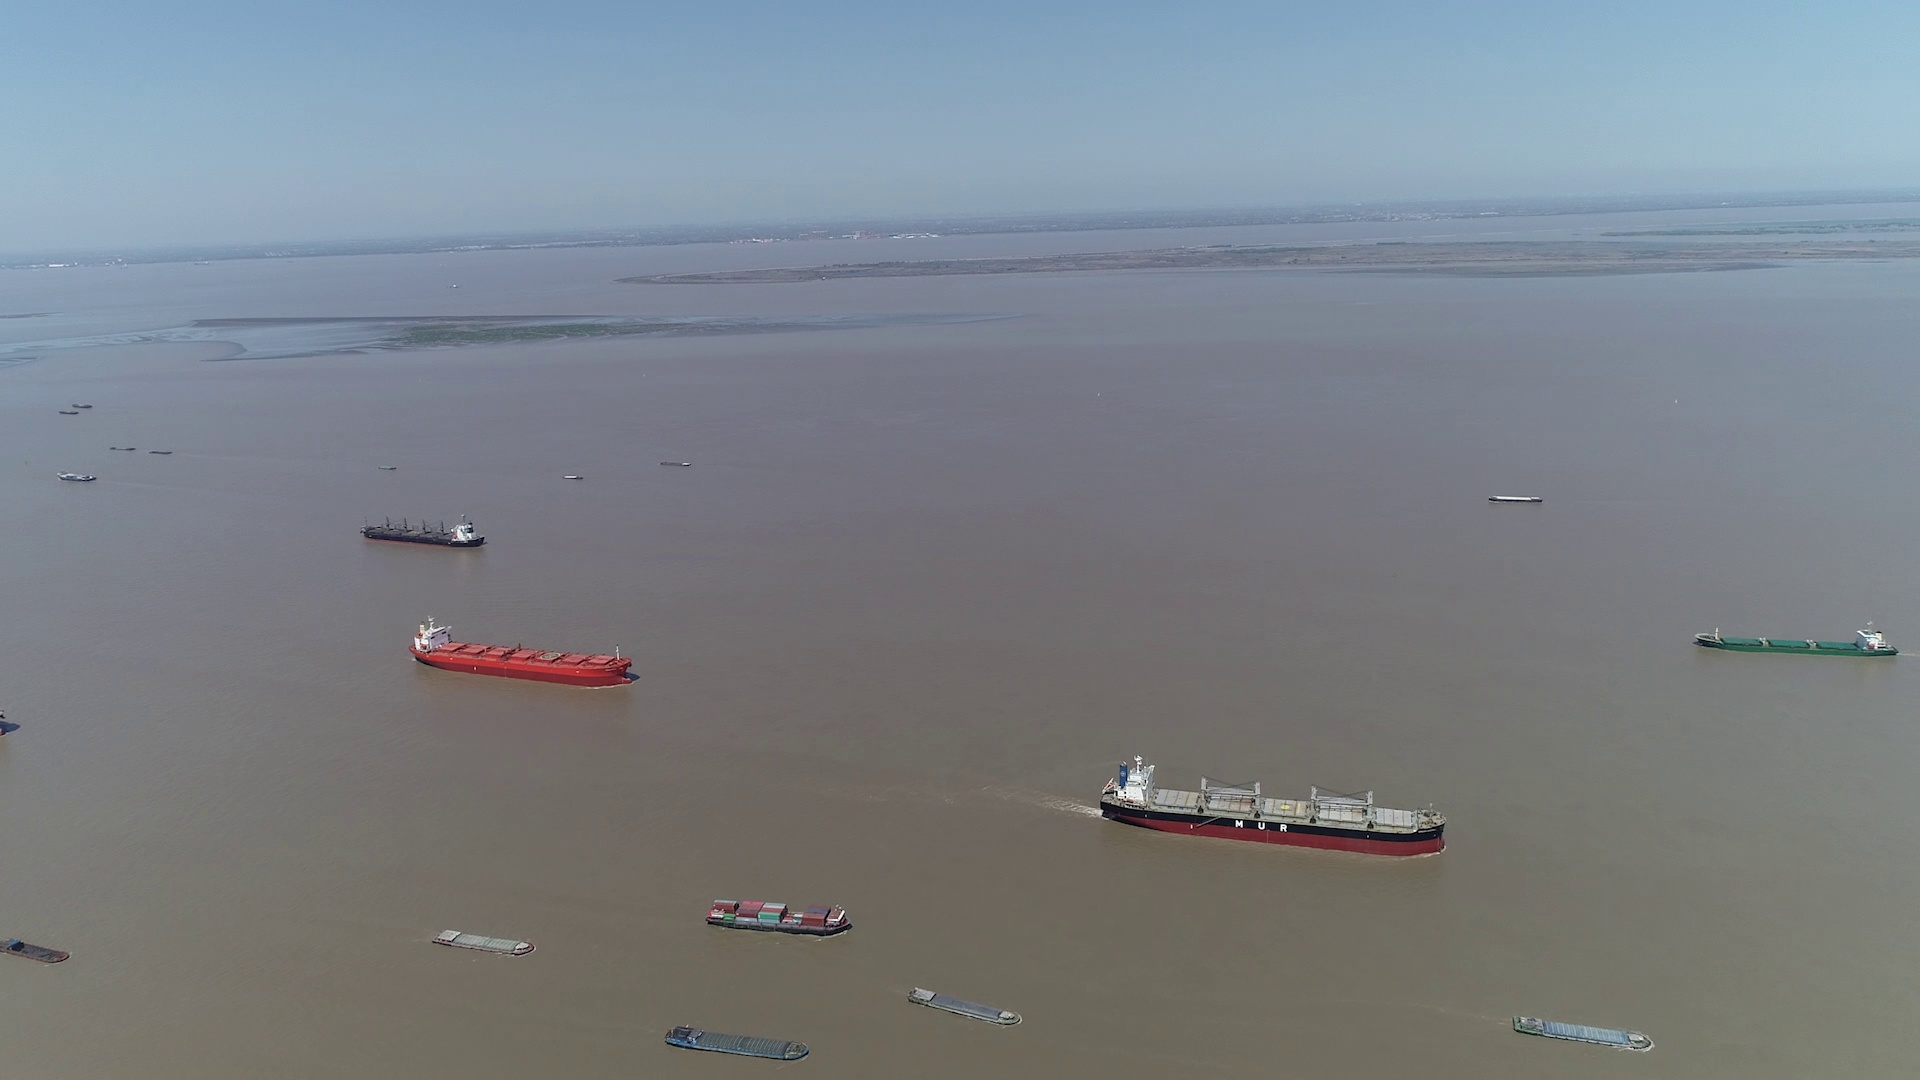ship: (1098, 757, 1445, 855), (410, 620, 633, 688), (1691, 625, 1903, 658), (707, 898, 852, 938), (665, 1026, 808, 1064), (1513, 1014, 1654, 1051), (909, 986, 1025, 1029), (359, 514, 484, 547), (434, 927, 537, 955), (3, 935, 69, 964), (1485, 495, 1540, 505), (57, 471, 98, 483), (657, 460, 691, 467)
